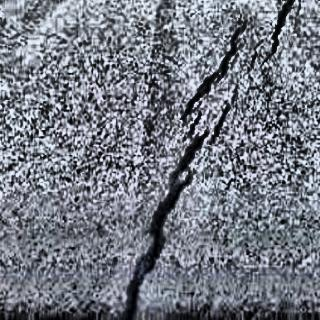crack: (120, 118, 207, 320), (179, 22, 243, 150), (271, 0, 294, 59)
